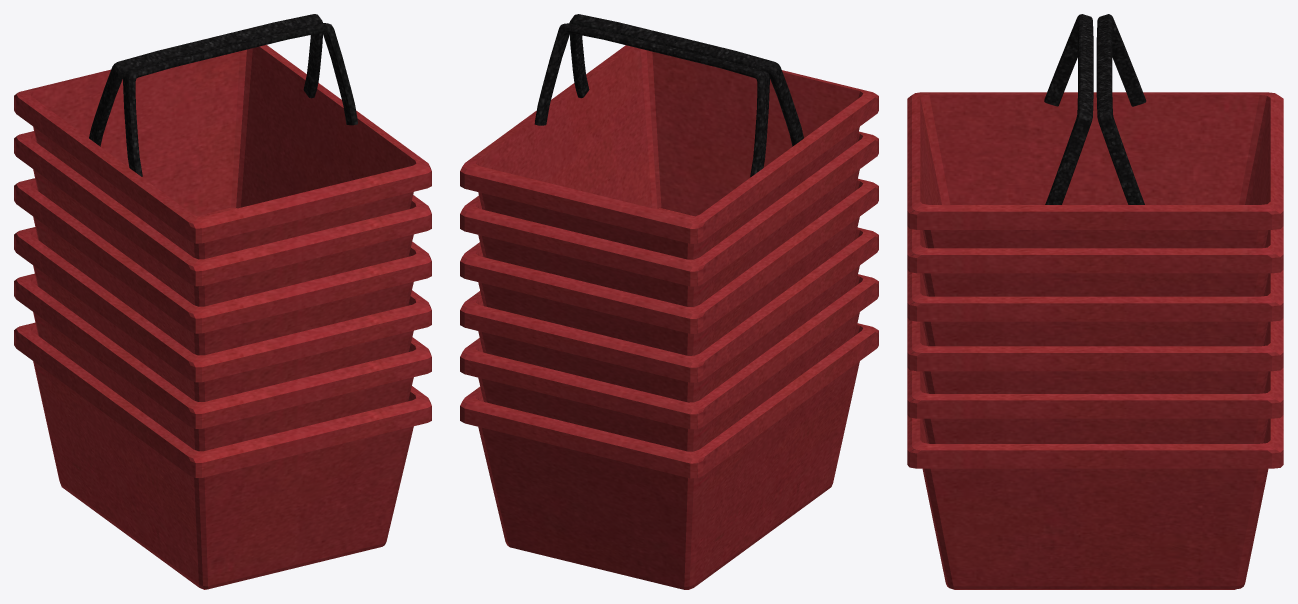
Rendered from pila-canastos.glb.
3 views of the same model, side by side, from view 1: azimuth 30°, elevation 25°; view 2: azimuth 150°, elevation 25°; view 3: azimuth 270°, elevation 25° (orthographic).
Parts seen in each view (by area): view 1: Canasto.005, Canasto, Canasto.001, Canasto.003, Canasto.004, Canasto.002; view 2: Canasto.005, Canasto, Canasto.001, Canasto.003, Canasto.004, Canasto.002; view 3: Canasto.005, Canasto, Canasto.003, Canasto.001, Canasto.004, Canasto.002.
Part boxes in pixels (box(x1,y1,x2,y2)): Canasto.005: box(14, 14, 431, 259); Canasto: box(14, 322, 431, 589); Canasto.001: box(14, 273, 431, 451); Canasto.003: box(14, 178, 431, 355); Canasto.004: box(14, 131, 431, 306); Canasto.002: box(14, 227, 431, 401); Canasto.005: box(460, 14, 878, 259); Canasto: box(460, 323, 878, 589); Canasto.001: box(460, 274, 878, 451); Canasto.003: box(460, 178, 878, 355); Canasto.004: box(460, 131, 878, 306); Canasto.002: box(460, 227, 878, 402); Canasto.005: box(907, 14, 1283, 248); Canasto: box(907, 415, 1283, 589); Canasto.003: box(907, 270, 1283, 346); Canasto.001: box(907, 368, 1283, 443); Canasto.004: box(907, 226, 1283, 296); Canasto.002: box(907, 318, 1283, 393).
Size of the model in its own units: 3.24 by 6.14 by 4.31.
Materials: 7 (7 with a texture image).
